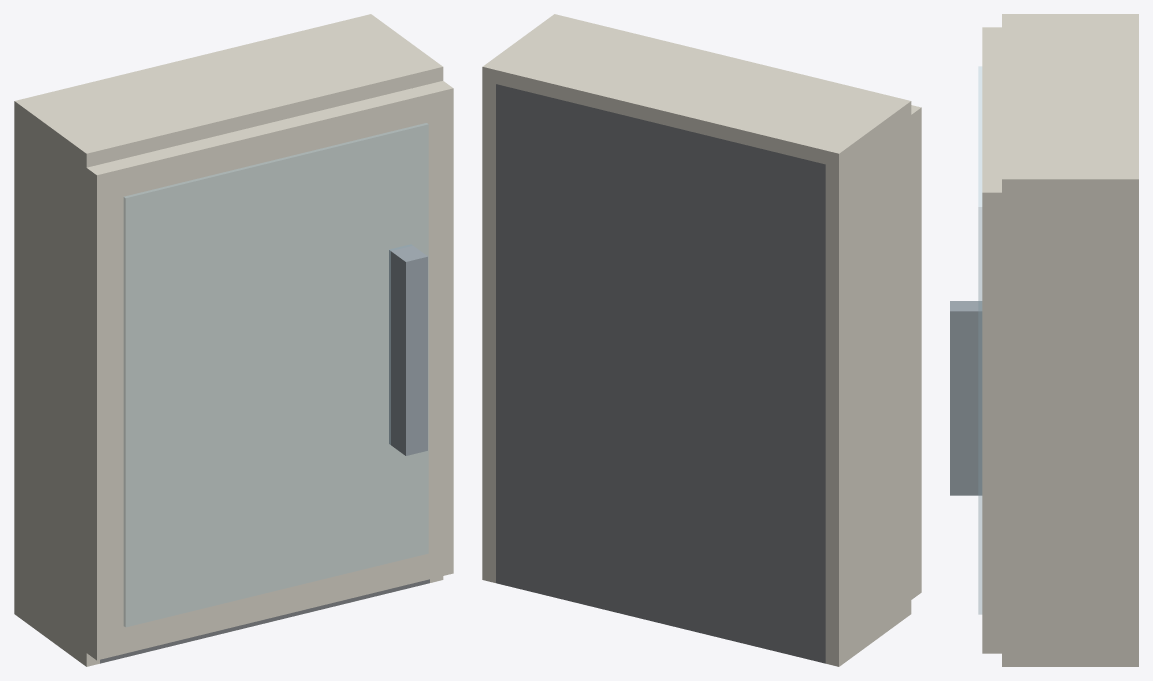
Rendered from GI_MedicineCabinet_01.glb.
The picture shows the model from 3 angles, left to right: view 1: azimuth 30°, elevation 25°; view 2: azimuth 150°, elevation 25°; view 3: azimuth 270°, elevation 25°; orthographic projection. The views are drawn at different scales.
Parts seen in each view (by area): view 1: Door, GI_MedicineCabinet_01; view 2: GI_MedicineCabinet_01, Door; view 3: GI_MedicineCabinet_01, Door.
Boxes of the visible parts, x1,y1,x2,y2 form: Door: (86, 81, 453, 660); GI_MedicineCabinet_01: (14, 14, 443, 666); GI_MedicineCabinet_01: (482, 14, 911, 666); Door: (911, 105, 921, 599); GI_MedicineCabinet_01: (1002, 14, 1138, 666); Door: (950, 27, 1001, 653).
Bounding box in the file's own units: 0.4 × 0.55 × 0.193.
Materials: 2 (2 with a texture image).
